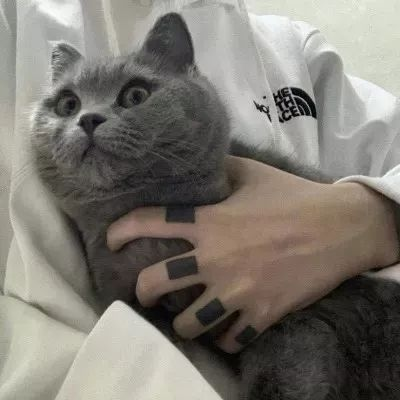cat: (24, 9, 232, 212)
